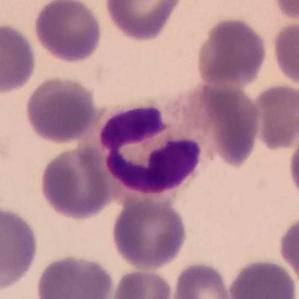Neutrophil: (80, 88, 220, 208)
RBC: (174, 80, 263, 168), (109, 194, 190, 271), (37, 142, 113, 222), (22, 74, 101, 145), (194, 15, 269, 87), (31, 0, 104, 64), (34, 251, 116, 299), (0, 204, 42, 293), (248, 81, 299, 152), (101, 0, 184, 43), (226, 257, 299, 299), (0, 20, 39, 95), (168, 259, 238, 299), (269, 17, 299, 92), (108, 267, 176, 299), (276, 213, 299, 289), (286, 123, 299, 209), (268, 0, 299, 23)
